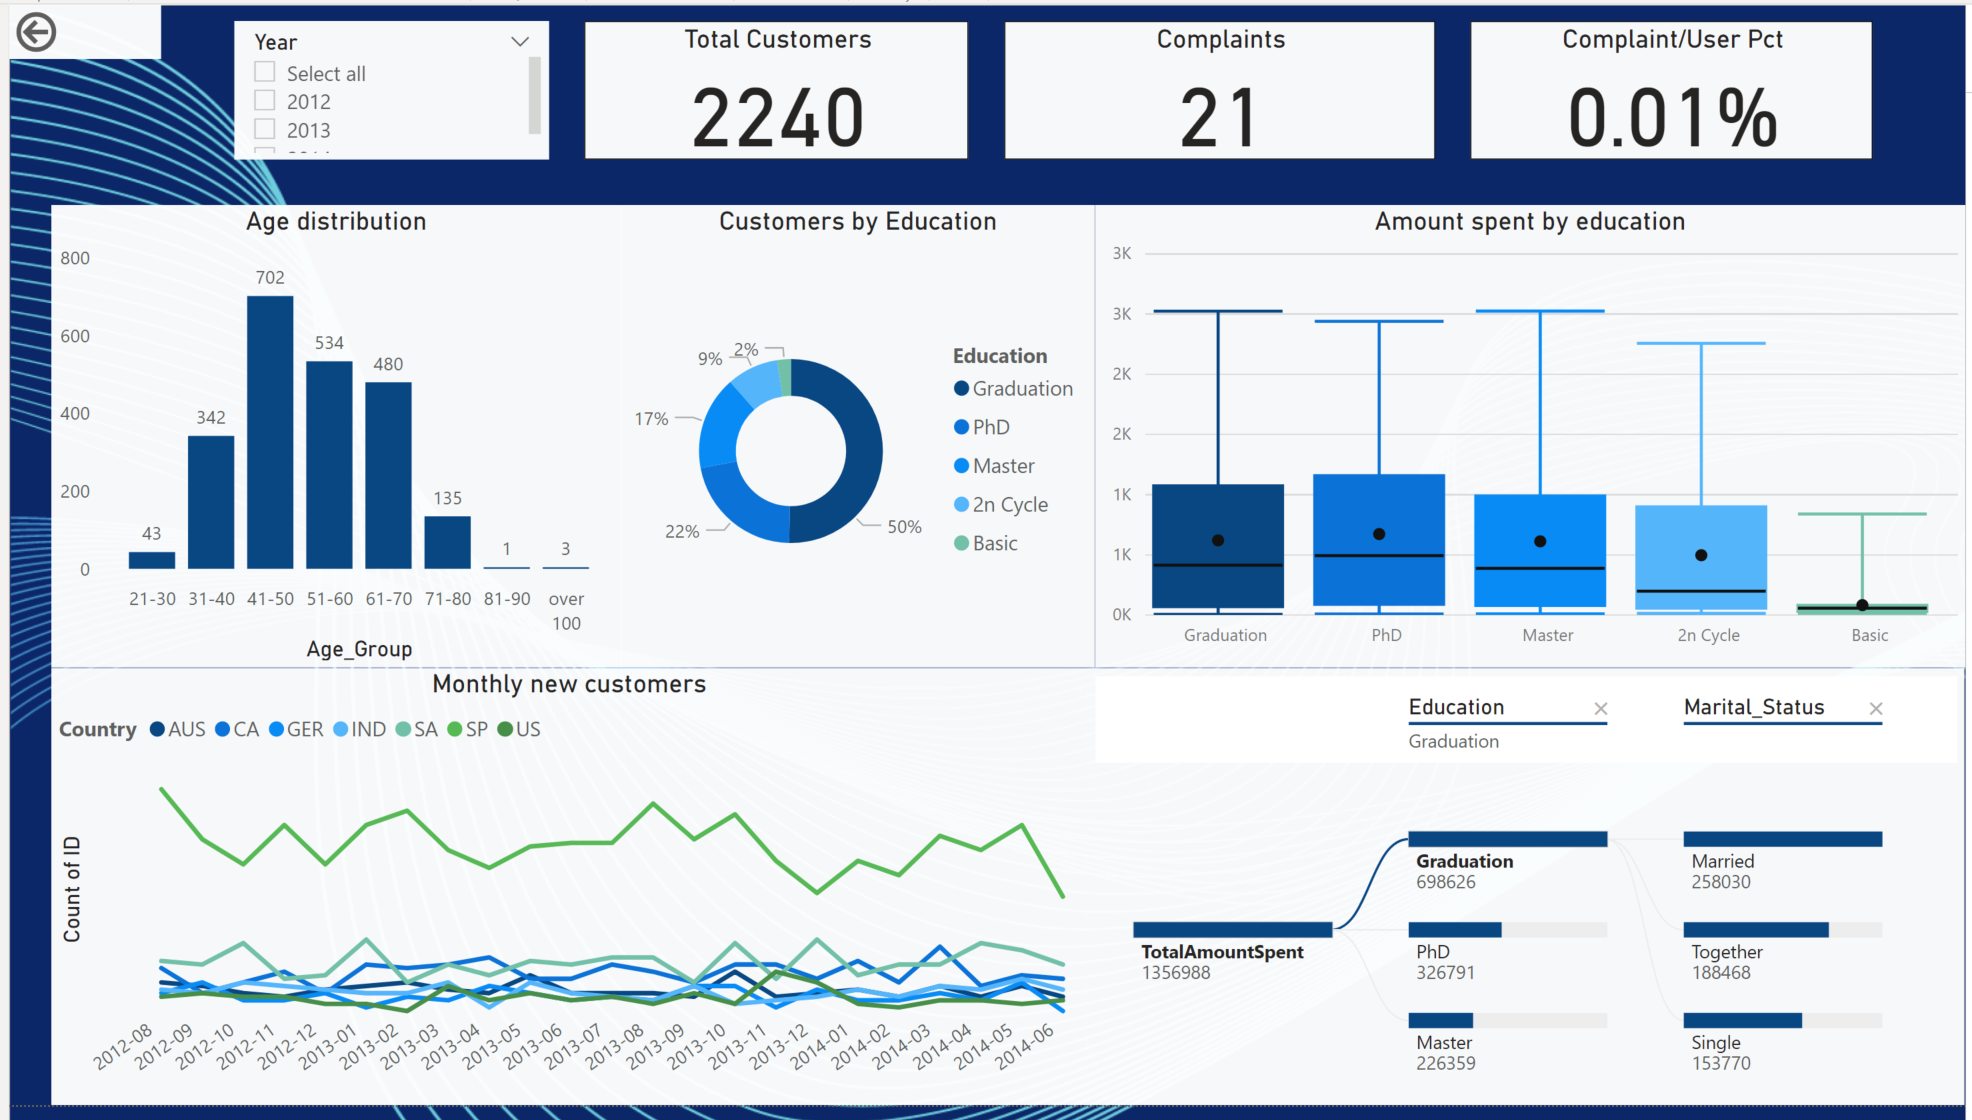

The page's visual inventory and layout, read from the dashboard file:
{"tool":"powerbi","page":{"name":"Customer Overview","canvas":[1280,720],"ordinal":0},"visuals":[{"type":"columnChart","title":"Age distribution","fields":{"Category":["marketing_data_prepared.Age_Group"],"Y":["CountNonNull(marketing_data_prepared.ID)"]},"box":[27.5,130.9,373,303],"z":0},{"type":"actionButton","box":[0,0,99.5,35.3],"z":1000},{"type":"card","title":"Total Customers","fields":{"Values":["CountNonNull(marketing_data_prepared.ID)"]},"box":[376.1,10.6,251.6,90.7],"z":2000},{"type":"lineChart","title":"Monthly new customers","fields":{"Y":["CountNonNull(marketing_data_prepared.ID)"],"Category":["Dates.MonthSort"],"Series":["marketing_data_prepared.Country"]},"box":[27.5,433.9,678,286],"z":3000},{"type":"card","title":"Complaint/User Pct","fields":{"Values":["MyMeasures.PctUsersWhoComplain"]},"box":[956,10.6,263.5,90.7],"z":4000},{"type":"card","title":"Complaints","fields":{"Values":["MyMeasures.NoComplaints"]},"box":[650.8,10.6,282,90.7],"z":5000},{"type":"BoxWhiskerChart1455240051538","title":"Amount spent by education","fields":{"Groups":["marketing_data_prepared.Education"],"Samples":["marketing_data_prepared.ID"],"Values":["Sum(marketing_data_prepared.TotalAmountSpent)"]},"box":[710.4,131.1,569.4,302.6],"z":6000},{"type":"donutChart","title":"Customers by Education","fields":{"Y":["CountNonNull(marketing_data_prepared.ID)"],"Category":["marketing_data_prepared.Education"]},"box":[400.6,131.1,309.8,302.6],"z":7000},{"type":"slicer","fields":{"Values":["Dates.Year"]},"box":[147,10.6,205.9,90.7],"z":8000},{"type":"decompositionTreeVisual","fields":{"Analyze":["Sum(marketing_data_prepared.TotalAmountSpent)"],"ExplainBy":["marketing_data_prepared.Education","marketing_data_prepared.Marital_Status"]},"box":[705.8,433.7,574,286.7],"z":9000}]}

Visuals, with their boxes in screenshot pixels (x1, y1, x2, y2), scaled from the page's 1280x720 canvas onto the 1972x1120 screenshot:
"Age distribution" columnChart: {"left": 42, "top": 204, "right": 617, "bottom": 675}
actionButton: {"left": 0, "top": 0, "right": 153, "bottom": 55}
"Total Customers" card: {"left": 579, "top": 16, "right": 967, "bottom": 158}
"Monthly new customers" lineChart: {"left": 42, "top": 675, "right": 1087, "bottom": 1119}
"Complaint/User Pct" card: {"left": 1473, "top": 16, "right": 1879, "bottom": 158}
"Complaints" card: {"left": 1003, "top": 16, "right": 1437, "bottom": 158}
"Amount spent by education" BoxWhiskerChart1455240051538: {"left": 1094, "top": 204, "right": 1971, "bottom": 675}
"Customers by Education" donutChart: {"left": 617, "top": 204, "right": 1094, "bottom": 675}
slicer - Dates.Year: {"left": 226, "top": 16, "right": 544, "bottom": 158}
decompositionTreeVisual - Sum(marketing_data_prepared.TotalAmountSpent) x marketing_data_prepared.Education: {"left": 1087, "top": 675, "right": 1971, "bottom": 1119}
